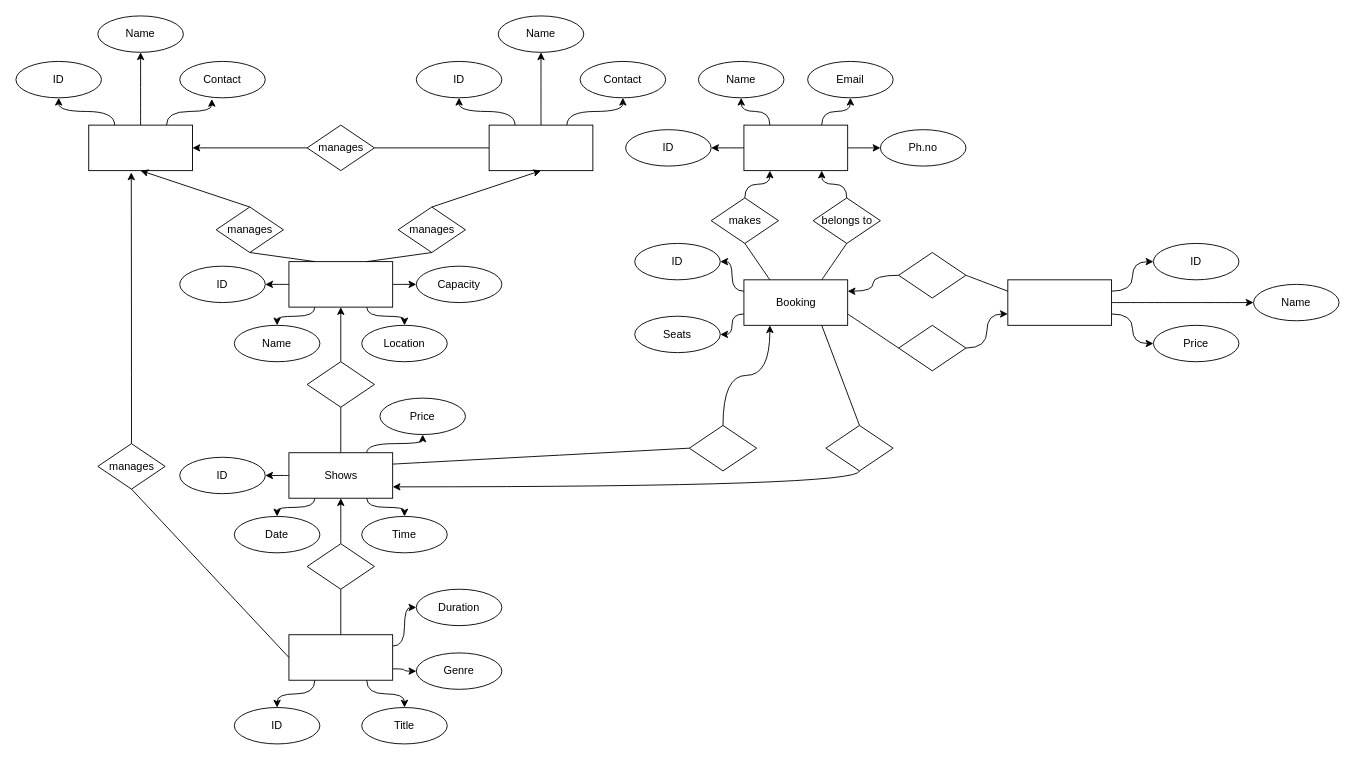
Image size: 1355x760. Some labels were removed from this diagram. The centre of each missing label's shape, as x and y in pixels:
Admin: [140,147]
Food: [1059,302]
for: [859,448]
has: [340,384]
includes: [932,347]
Movie: [340,657]
orders: [932,275]
plays: [340,566]
reserves: [722,448]
Theater: [340,284]
Theater owner: [540,147]
User: [795,147]
